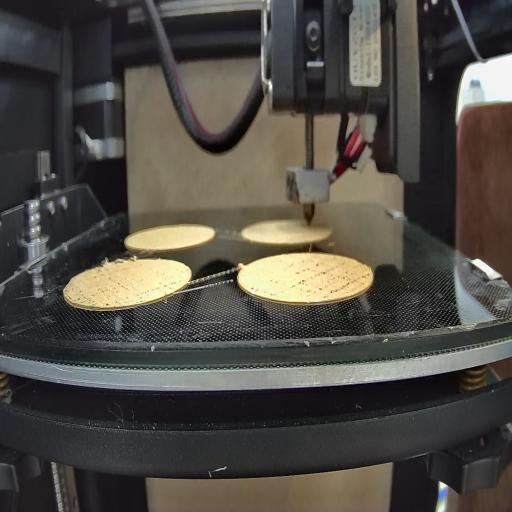under_extrusion: (293, 260, 370, 296), (78, 273, 131, 307), (247, 281, 280, 300), (150, 282, 177, 296)
